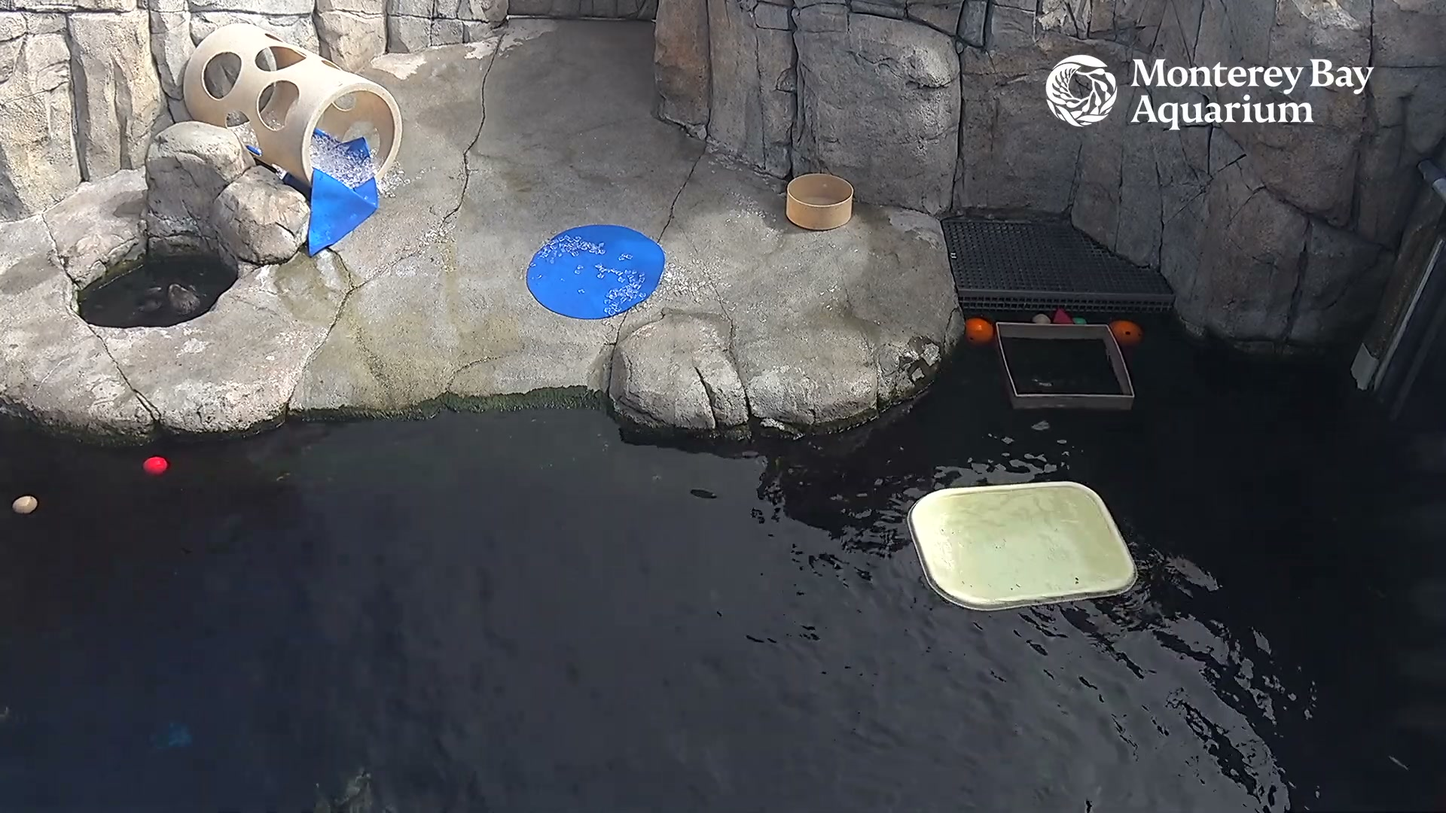Southern Sea Otter: (141, 262, 208, 324)
